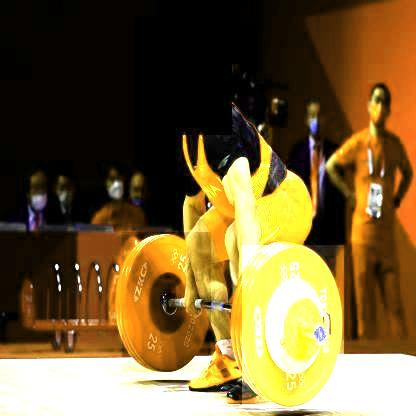barbell: (243, 245, 345, 408), (122, 234, 211, 373)
